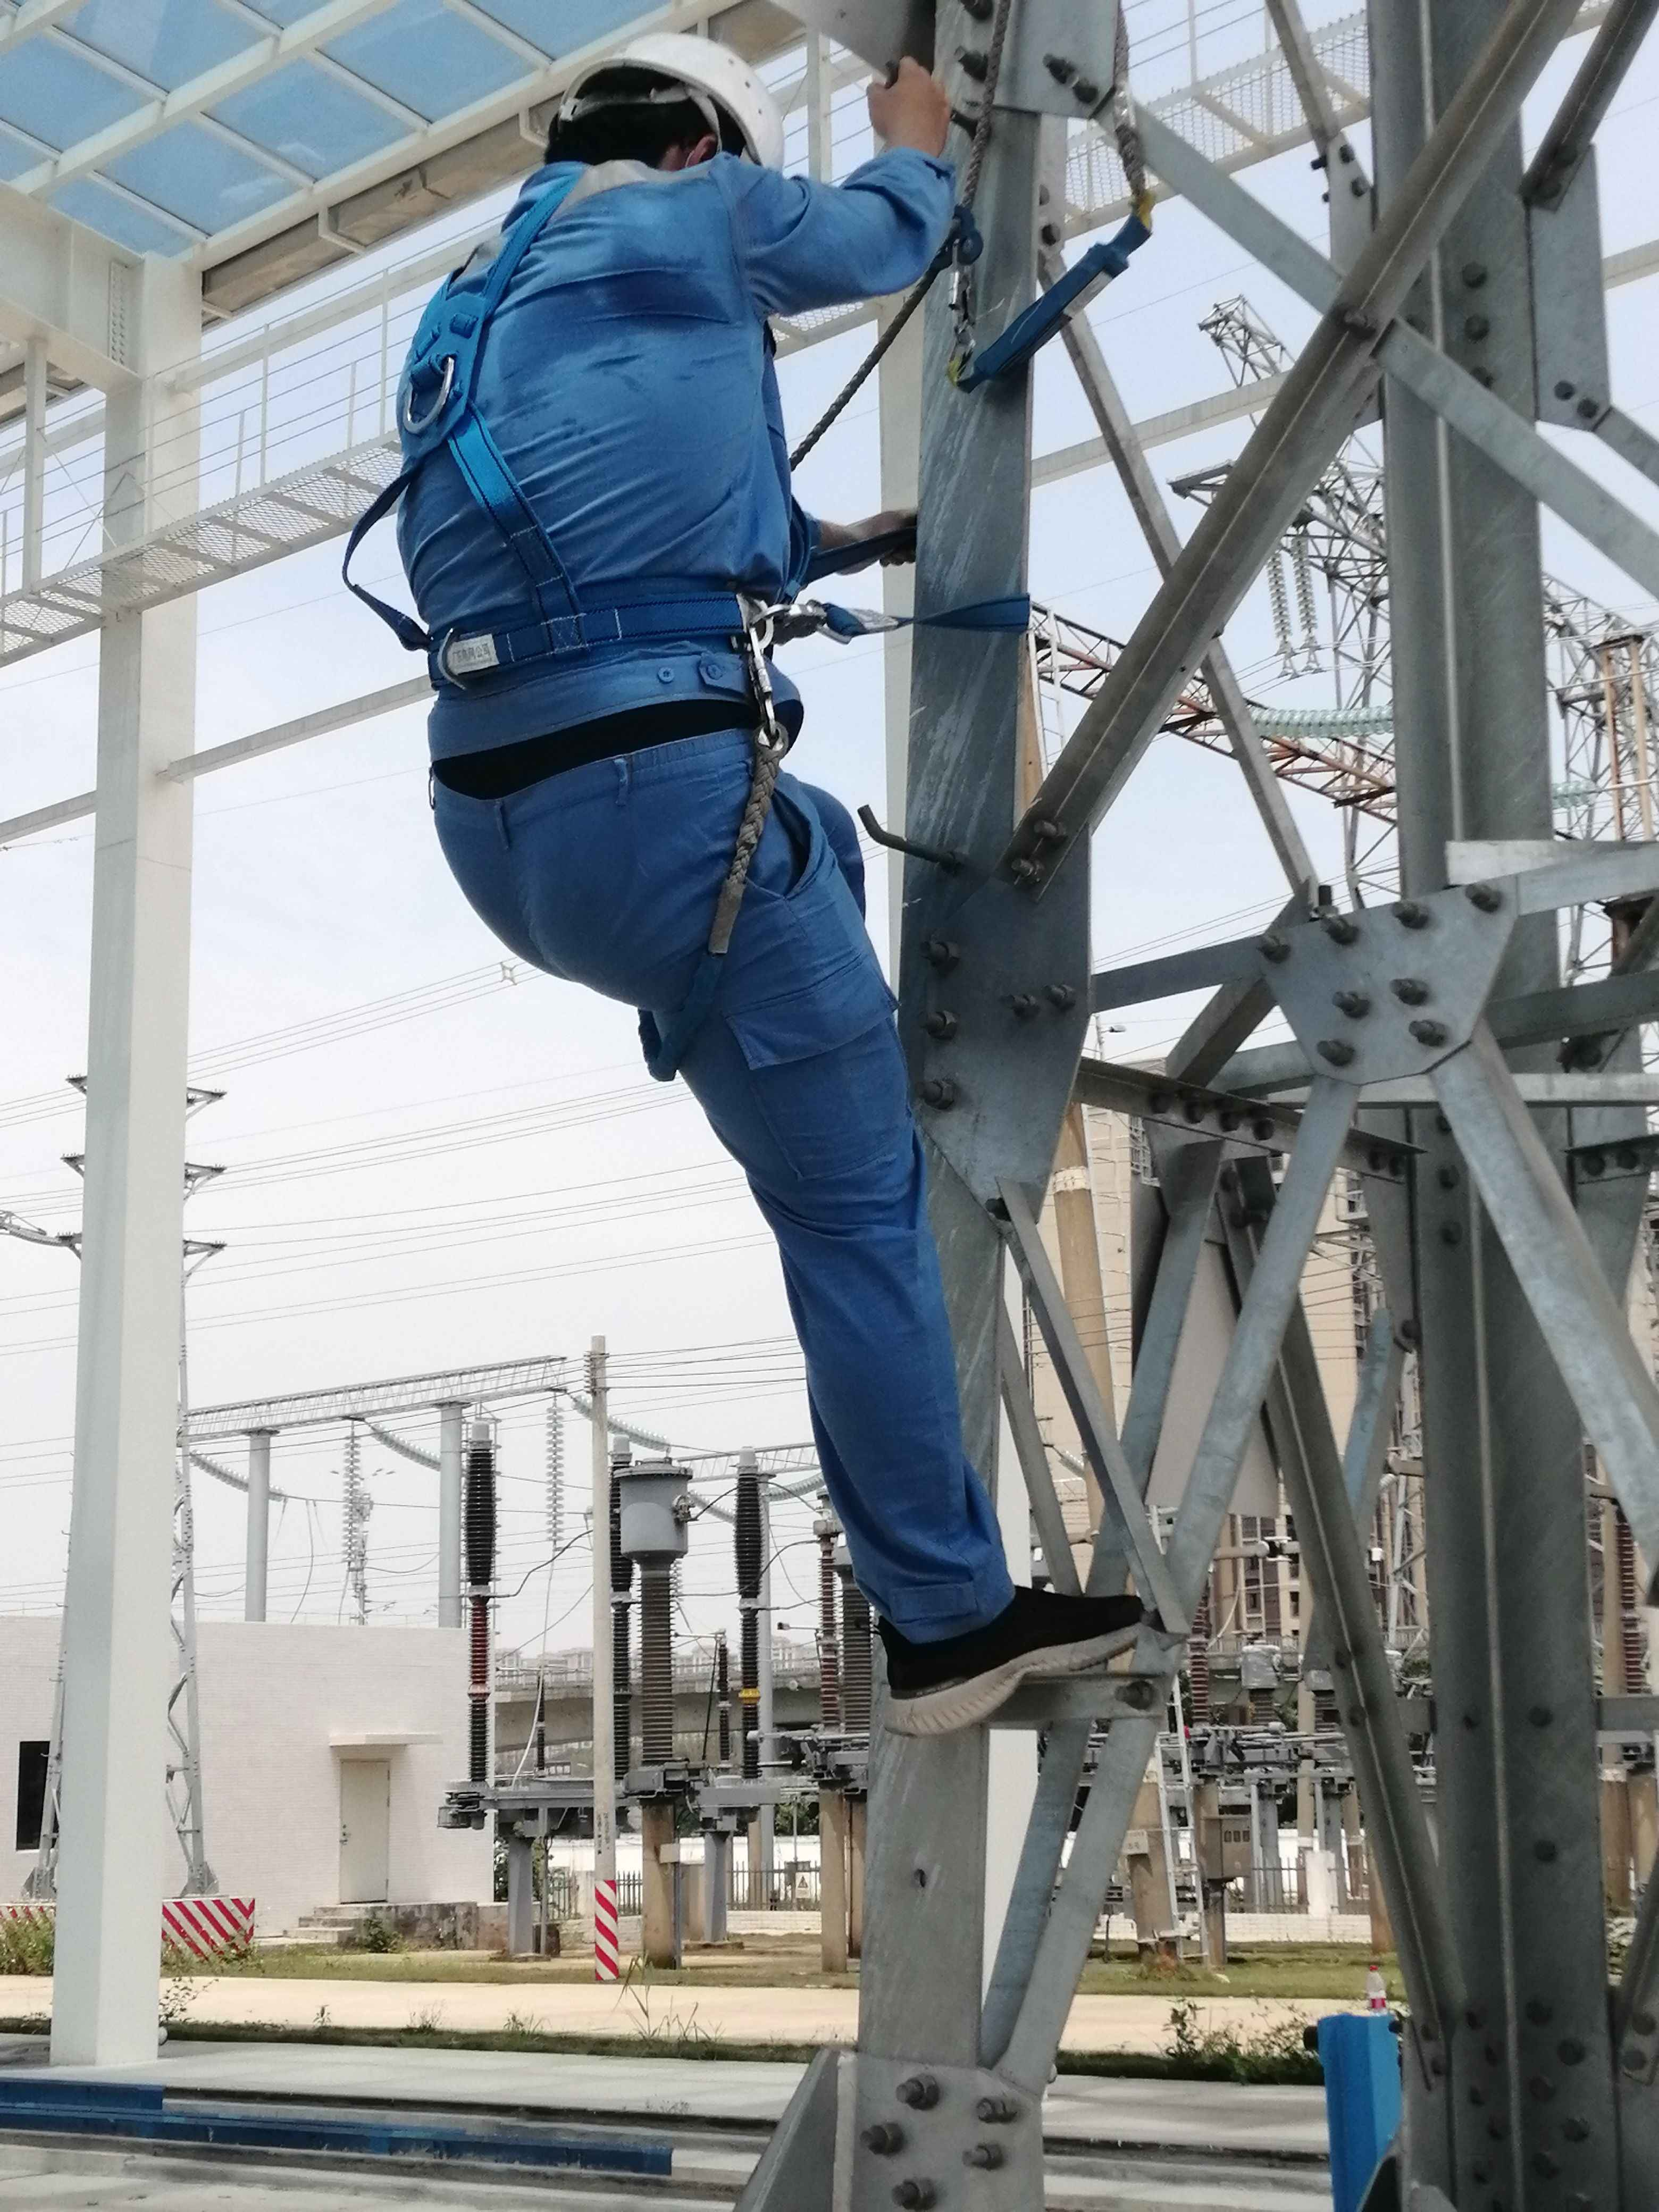downsuit: (427, 768, 1054, 1622)
upsuit: (371, 193, 800, 686)
